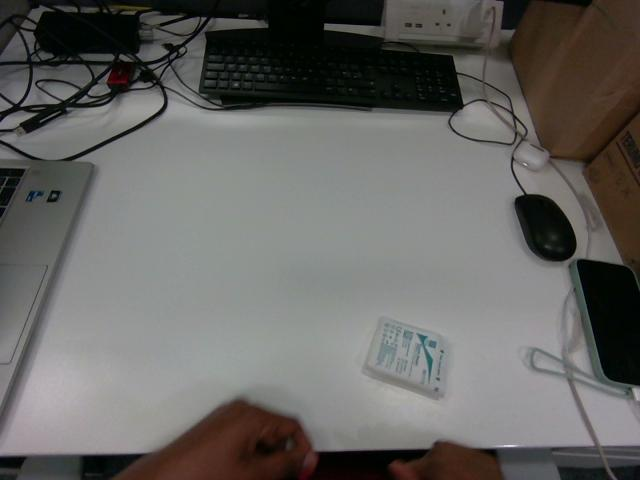gauze: (364, 317, 449, 397)
